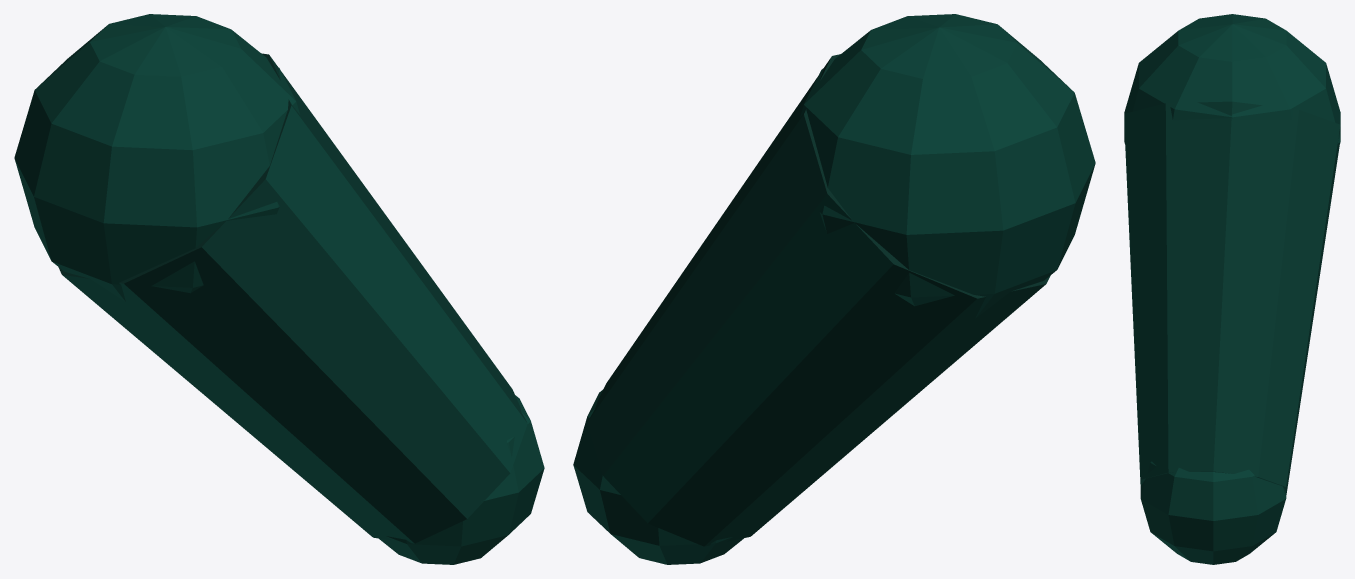
Rendered from SM_brachiosaurus_hind_r_Upper.fbx.
3 renders of one model, left to right at view 1: azimuth 30°, elevation 25°; view 2: azimuth 150°, elevation 25°; view 3: azimuth 270°, elevation 25°, orthographic. The views are drawn at different scales.
Visible parts, largest first — view 1: SM_brachiosaurus_hind_r_Upper export; view 2: SM_brachiosaurus_hind_r_Upper export; view 3: SM_brachiosaurus_hind_r_Upper export.
Boxes of the visible parts, bbox=[...] form: SM_brachiosaurus_hind_r_Upper export: bbox=[14, 14, 544, 564]; SM_brachiosaurus_hind_r_Upper export: bbox=[573, 14, 1095, 564]; SM_brachiosaurus_hind_r_Upper export: bbox=[1124, 14, 1340, 564].
Bounding box in the file's own units: 192 × 98.91 × 221.
